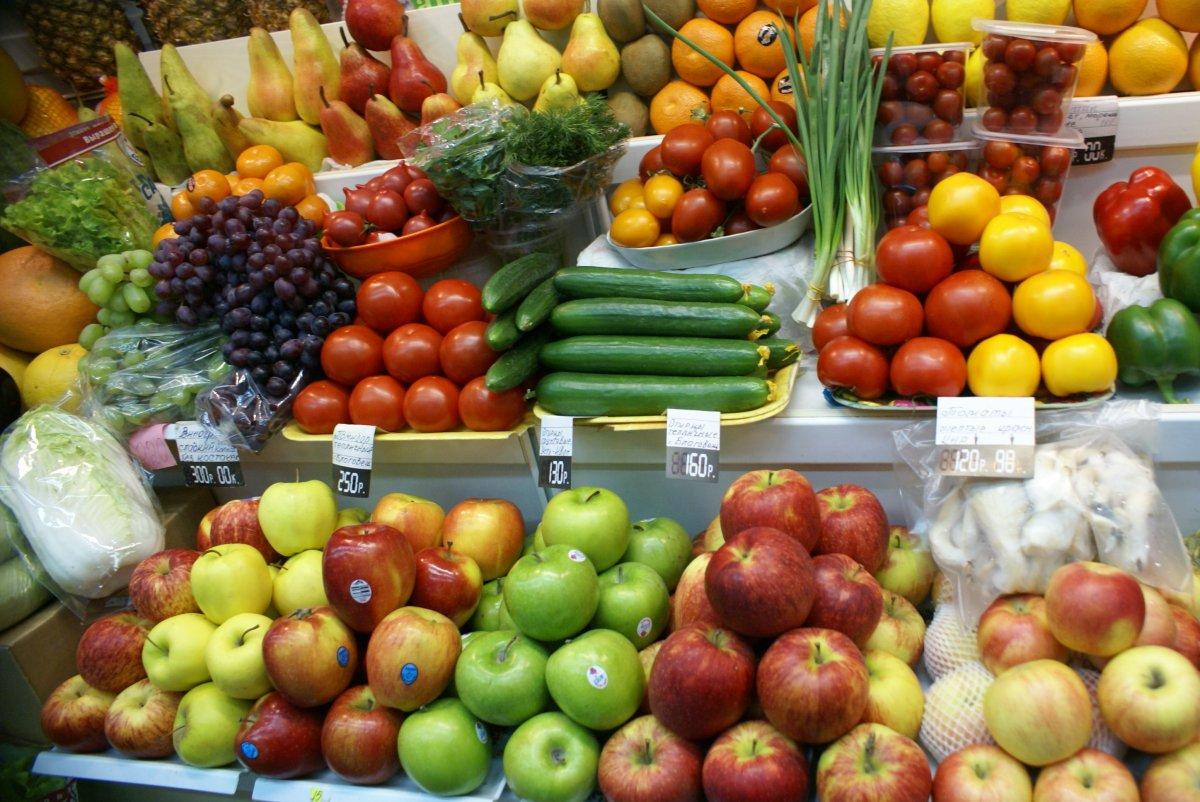cucumber: (488, 251, 797, 411)
grapes: (73, 199, 354, 401)
green apple: (410, 485, 693, 783)
lemon: (875, 0, 1073, 46)
orange: (660, 0, 856, 125), (1068, 0, 1200, 95)
pear: (114, 13, 454, 154), (465, 0, 625, 120)
pineapple: (28, 0, 147, 92), (150, 0, 345, 42)
red apple: (51, 490, 496, 751), (631, 466, 907, 802), (934, 564, 1200, 802)
sweet pepper: (1102, 135, 1200, 388)
tomato: (831, 174, 1106, 398), (299, 279, 529, 431), (611, 114, 805, 238)
